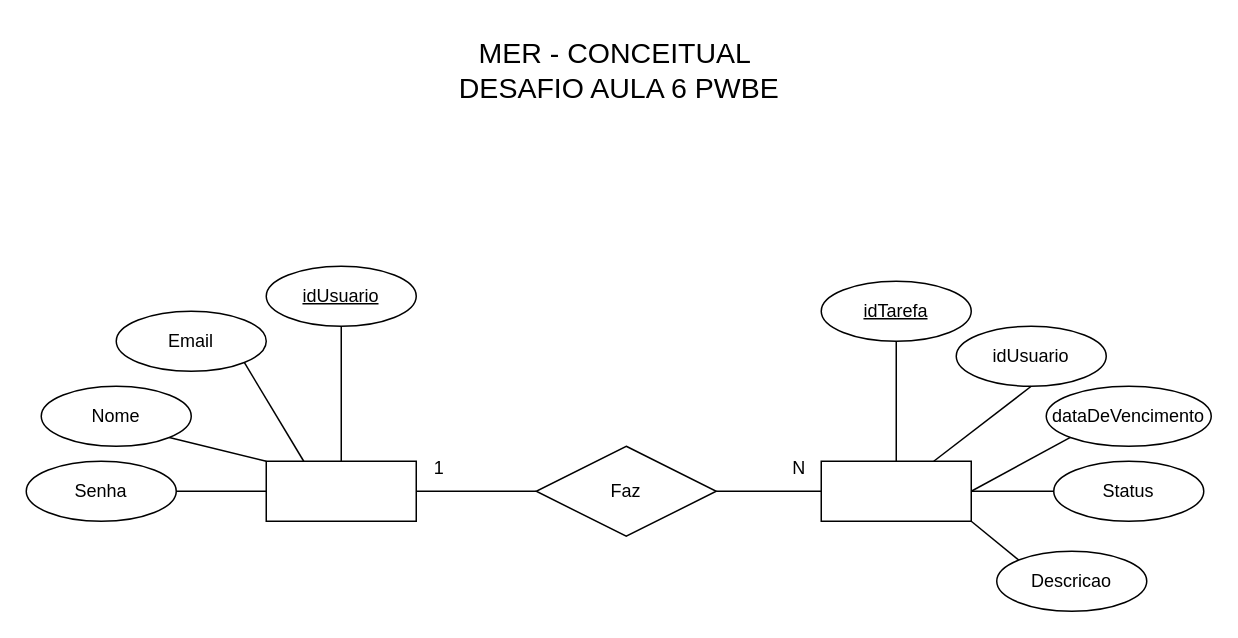
Some shapes in this 1238 by 638 pixel diagram are drawn without their labels. The shapes that lost their labels are listed below. From the top down, each one's centre as x and y in pixels, then its label:
the point at 340,490: Usuarios
the point at 895,490: Tarefas
